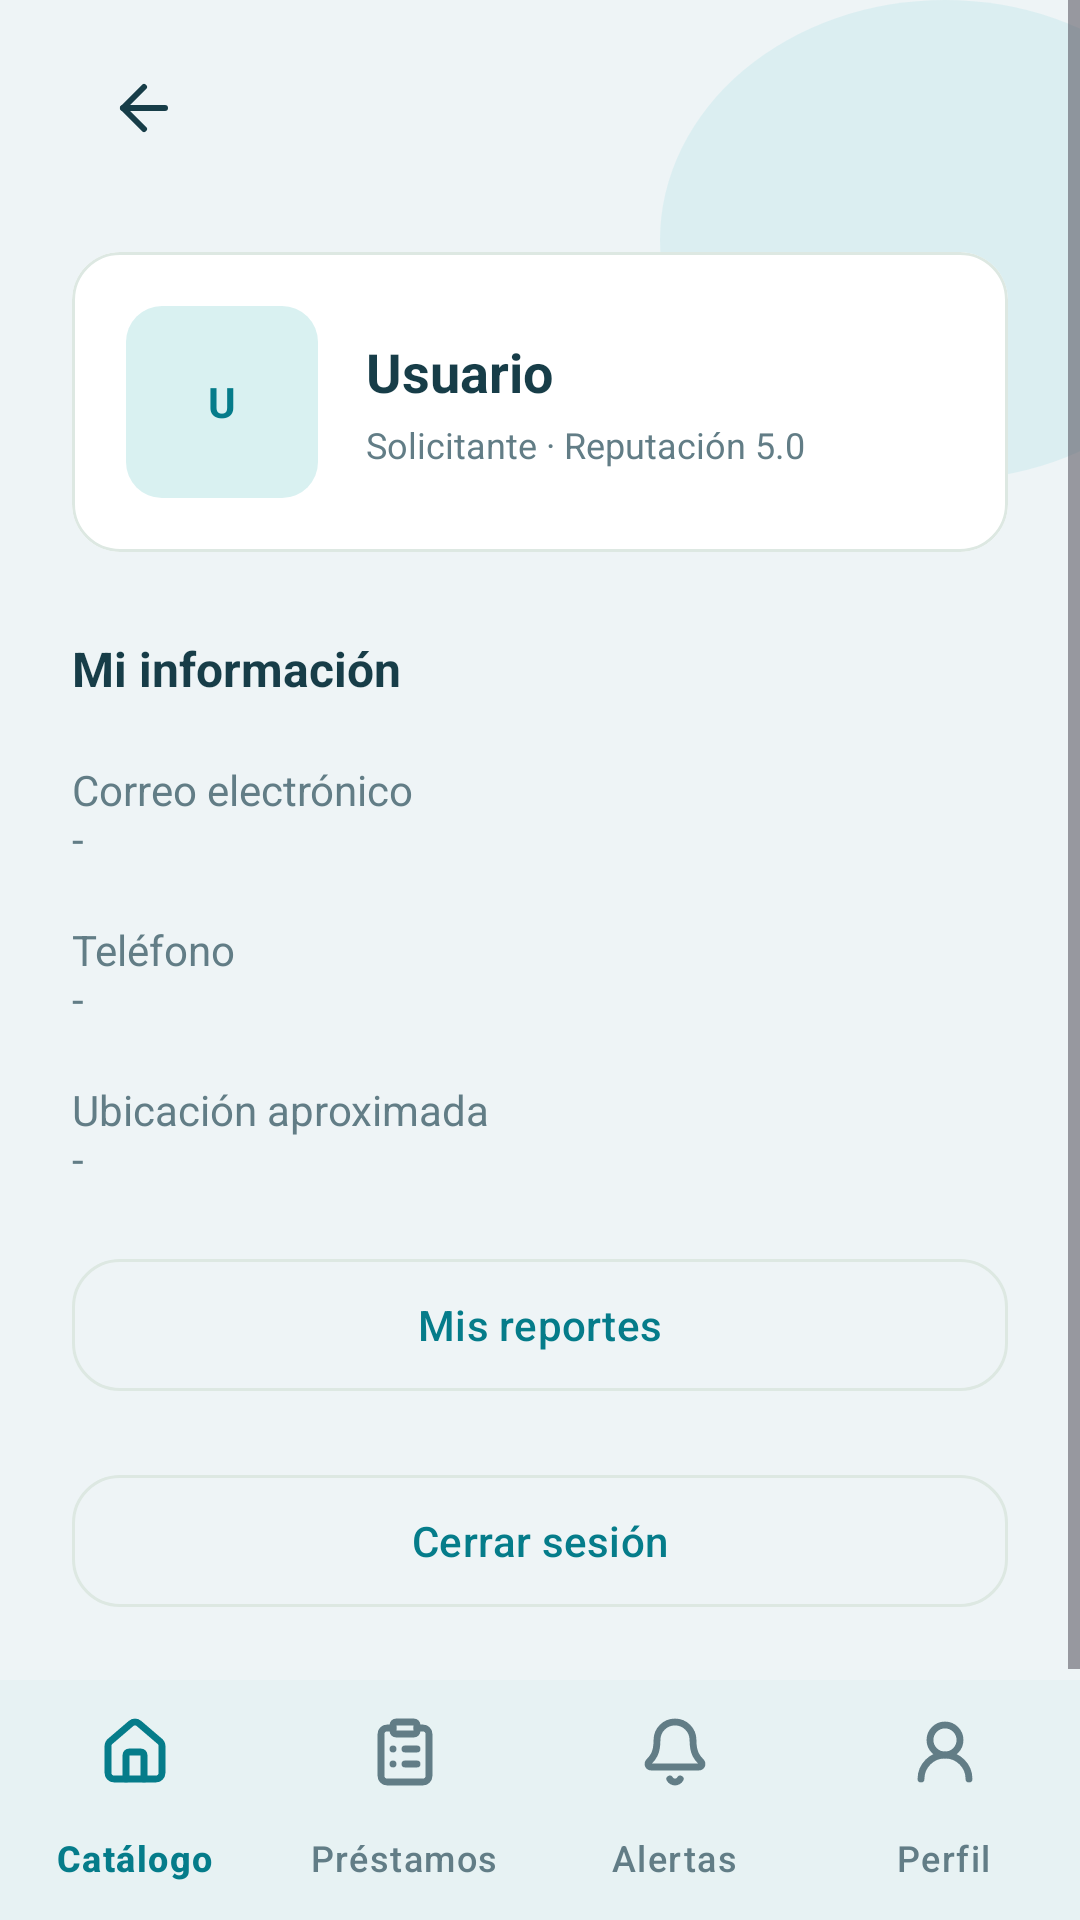

Icon bounding boxes for this 1080 × 1920 phone screenshot, format [x1, y1, x2, y2]:
Volver: [120, 84, 168, 132]
